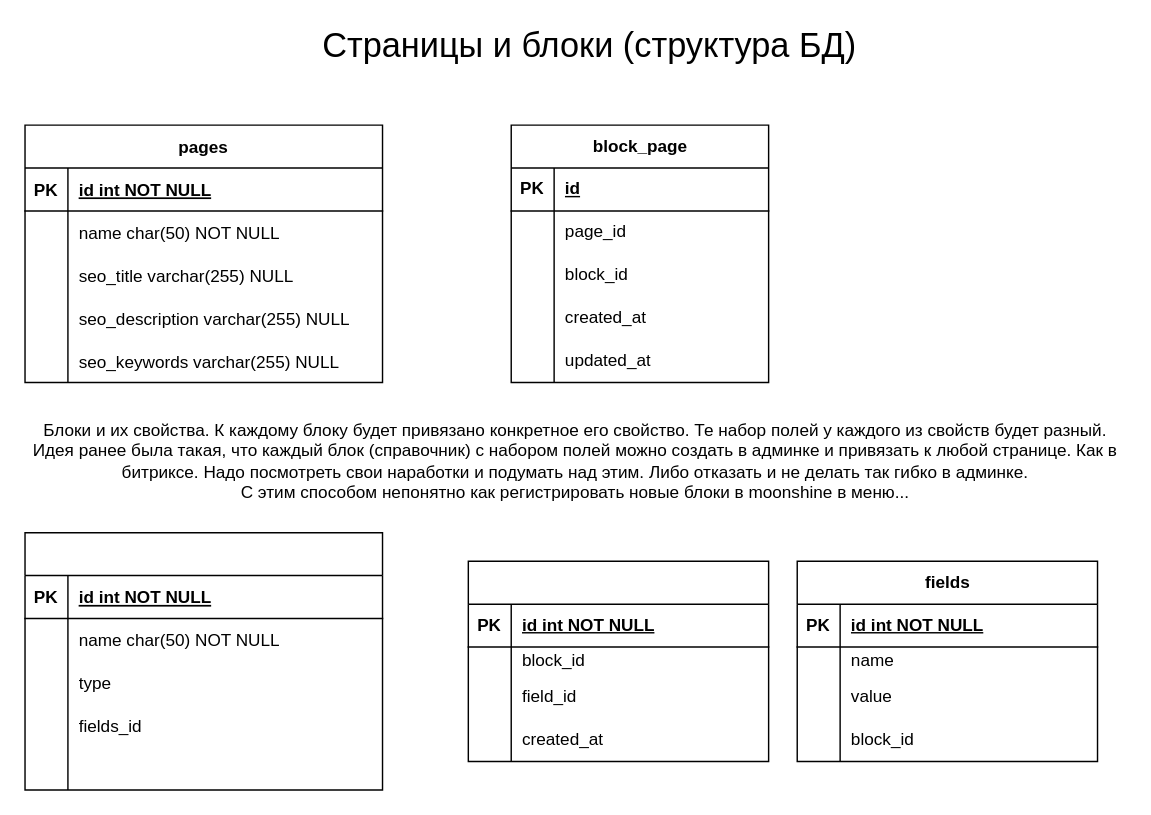
The diagram is 1151 pixels wide and 815 high, and some of its shapes have lost their labels. Here are the shapes that lost their labels. From the top down, the box of each, then its label:
(24, 531, 383, 790): blocks
(467, 560, 769, 761): block_field
